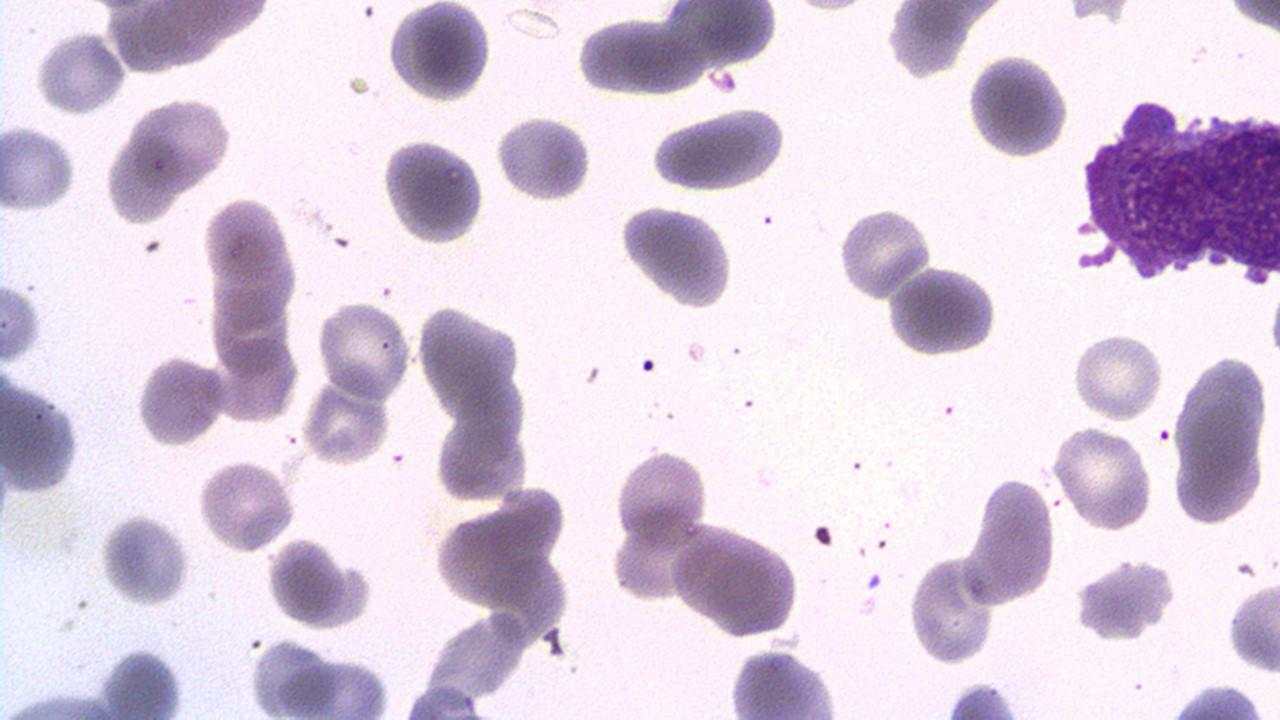Platelets: (494, 110, 598, 204), (834, 204, 936, 298), (98, 510, 191, 610), (1070, 559, 1176, 646), (264, 534, 351, 630), (942, 678, 1024, 718), (1267, 275, 1280, 371), (895, 474, 926, 507), (640, 357, 656, 371)
RBC: (679, 524, 799, 638), (960, 474, 1056, 612), (617, 200, 737, 310), (413, 300, 524, 418), (644, 109, 788, 198), (964, 47, 1076, 161), (378, 133, 489, 246), (883, 266, 1003, 362), (572, 14, 704, 100), (1050, 423, 1154, 532), (385, 0, 491, 106), (906, 551, 998, 667), (314, 297, 412, 404), (610, 448, 712, 548), (195, 458, 300, 552), (494, 111, 596, 204), (836, 204, 930, 302), (200, 195, 296, 290), (1069, 329, 1167, 422), (206, 332, 299, 427), (132, 352, 224, 448), (431, 417, 531, 504), (32, 30, 128, 118), (267, 533, 350, 632), (301, 378, 393, 466), (102, 132, 181, 229), (0, 122, 79, 214), (1223, 575, 1279, 679), (0, 275, 45, 366), (1223, 1, 1277, 35)
WBC: (287, 0, 1180, 720), (0, 0, 603, 720), (810, 0, 1280, 720), (828, 0, 1280, 343), (1061, 86, 1279, 300), (1170, 347, 1274, 526), (94, 0, 279, 75), (618, 198, 738, 313), (960, 474, 1059, 610), (381, 130, 493, 248), (648, 105, 790, 198), (380, 0, 504, 105), (964, 50, 1074, 163), (888, 259, 1004, 363), (904, 548, 998, 668), (121, 96, 236, 194), (0, 373, 84, 500), (496, 110, 600, 204), (724, 646, 848, 716), (0, 276, 45, 366)
